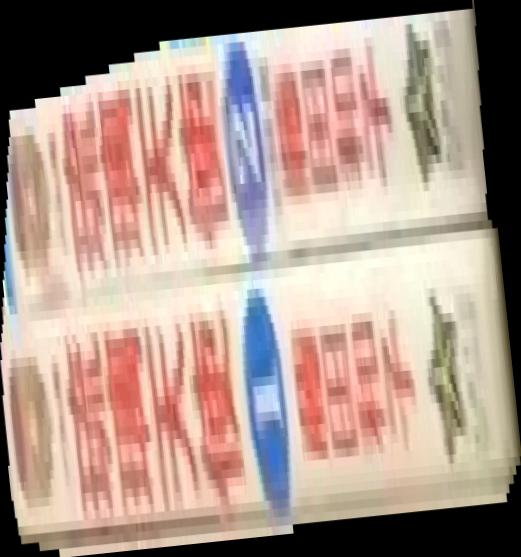flat: (1, 1, 521, 557)
